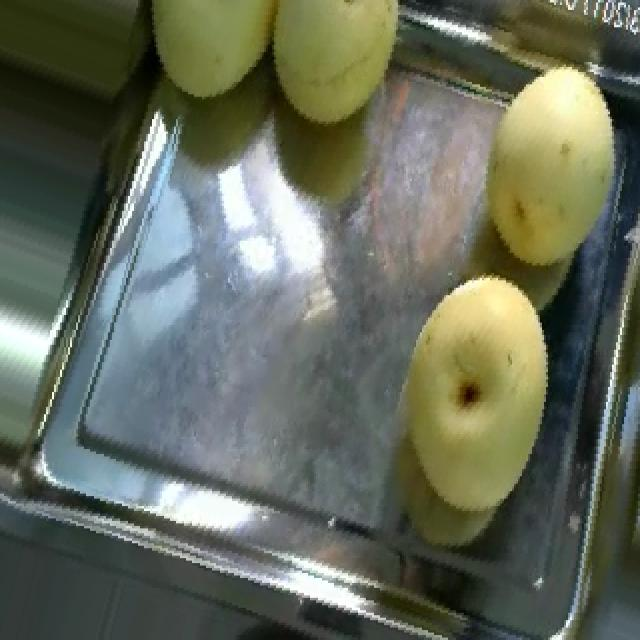Fruit: (348, 253, 578, 548), (452, 45, 640, 288), (238, 0, 428, 149), (152, 0, 292, 122)
